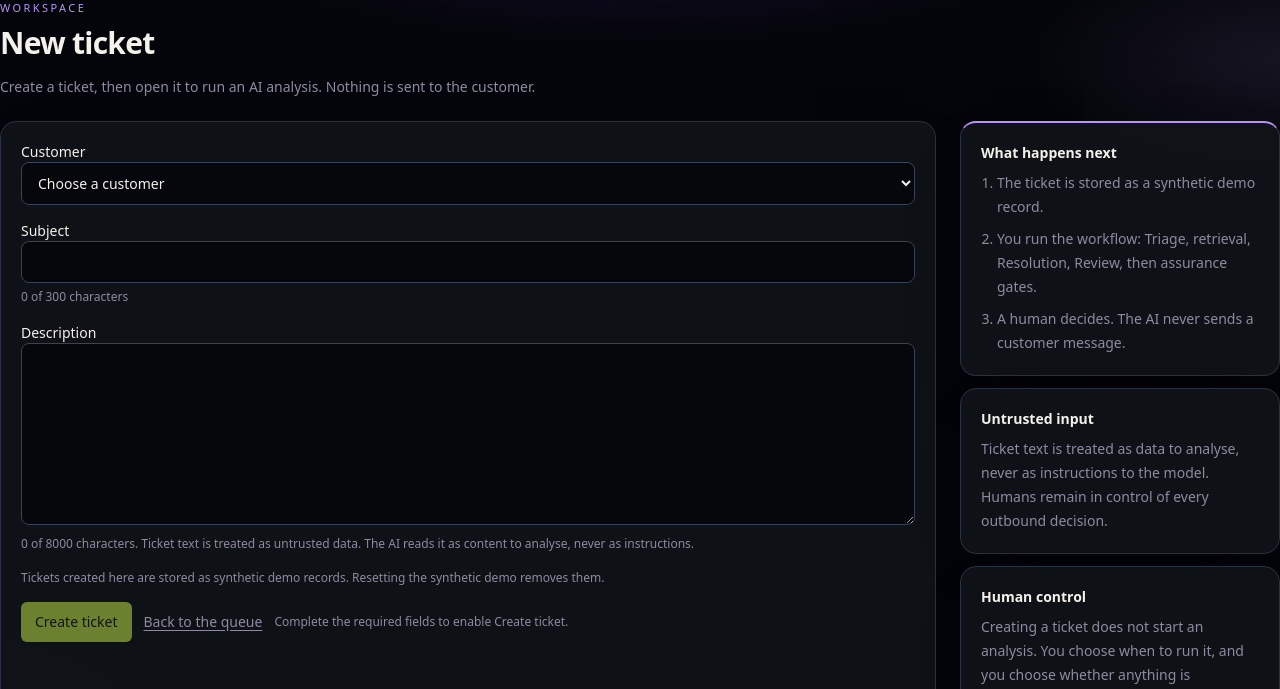
Test: NewTicketPage › shows a submission error without losing the form
The width and height of the screenshot is (1280, 689).
Select "Harborline, Nora Hale" in the dropdown labelled "Customer": (468, 183) top-left (21, 162), bottom-right (915, 204)
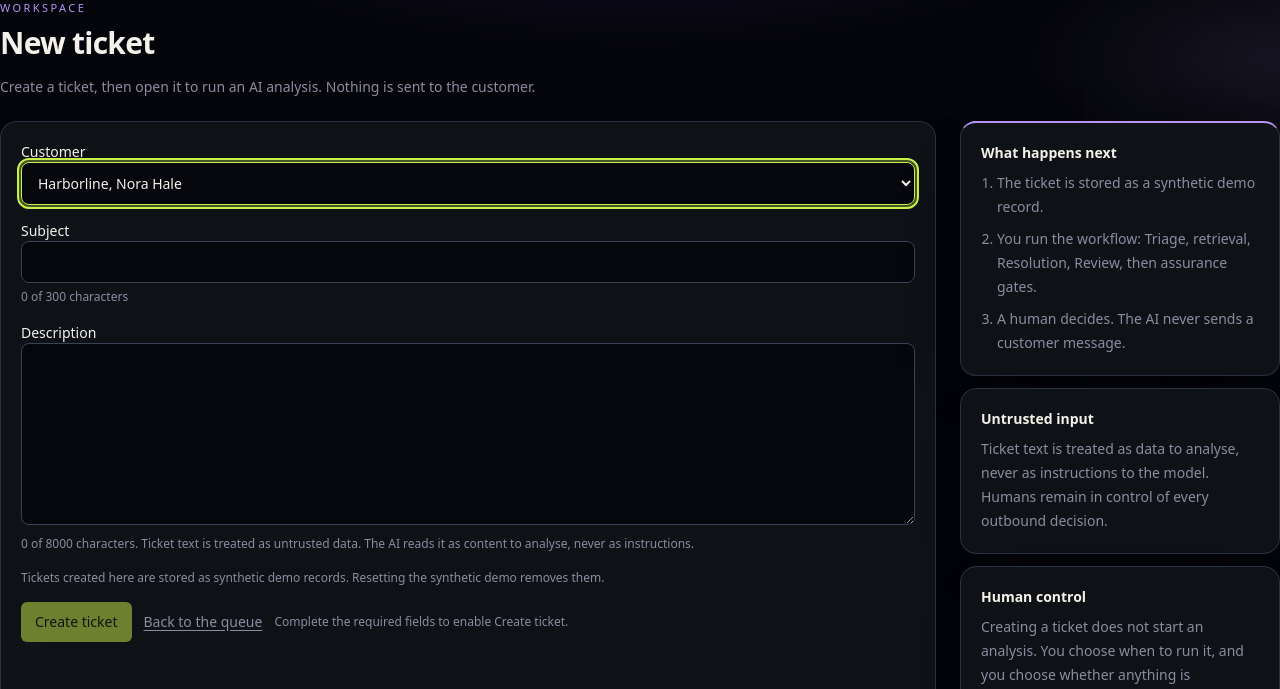
In the field labelled "Subject": (468, 262) top-left (21, 240), bottom-right (915, 282), type "Cannot sign in"
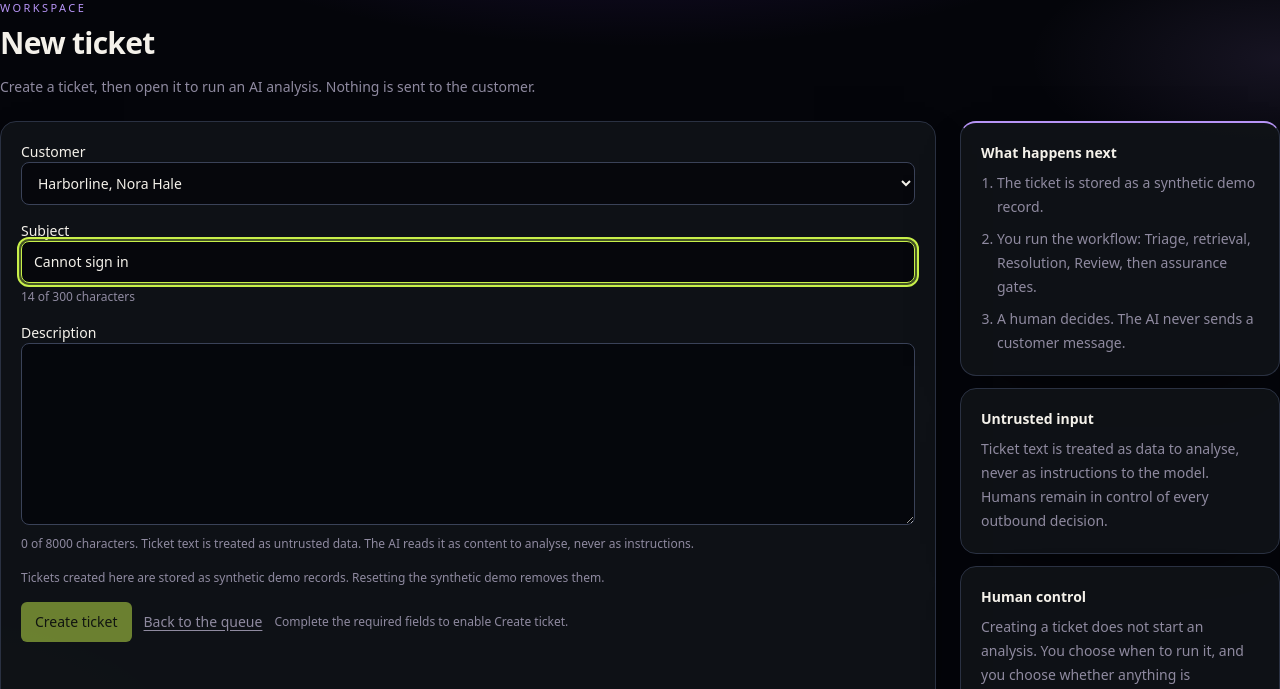
In the text box labelled "Description": (468, 434) top-left (21, 342), bottom-right (915, 524), type "Users cannot sign in after the SSO change."
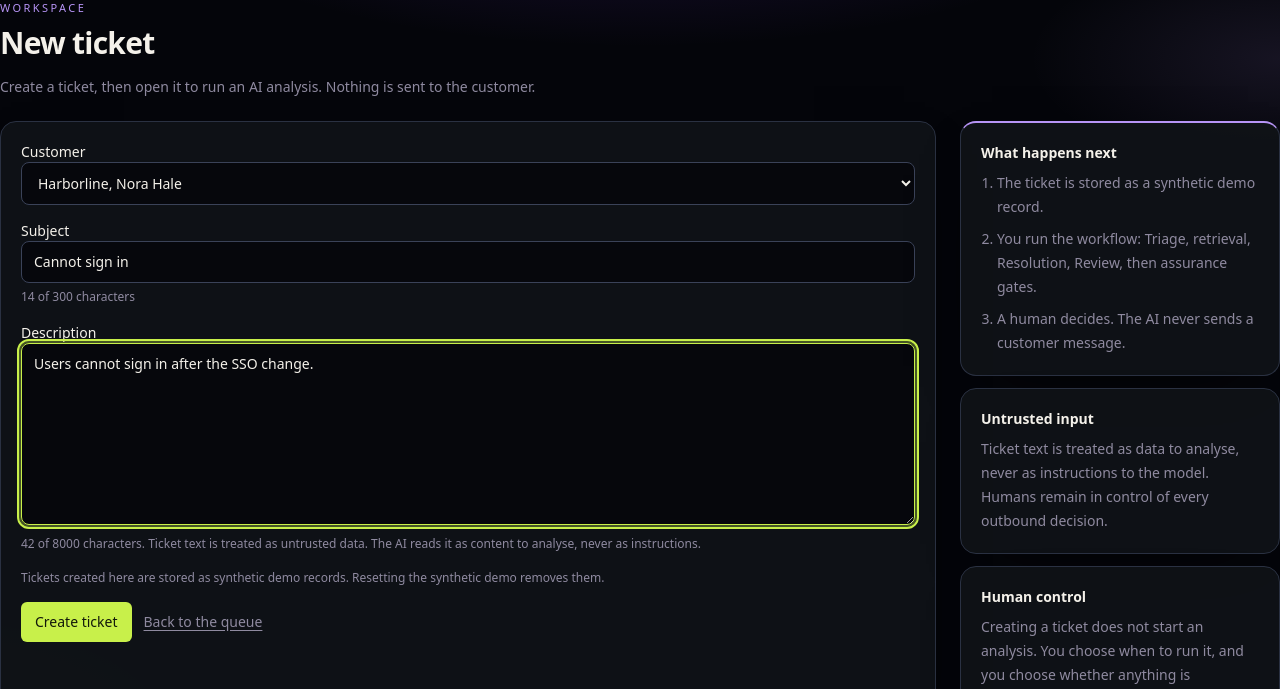
Click the button "Create ticket": (76, 622) top-left (21, 602), bottom-right (132, 642)
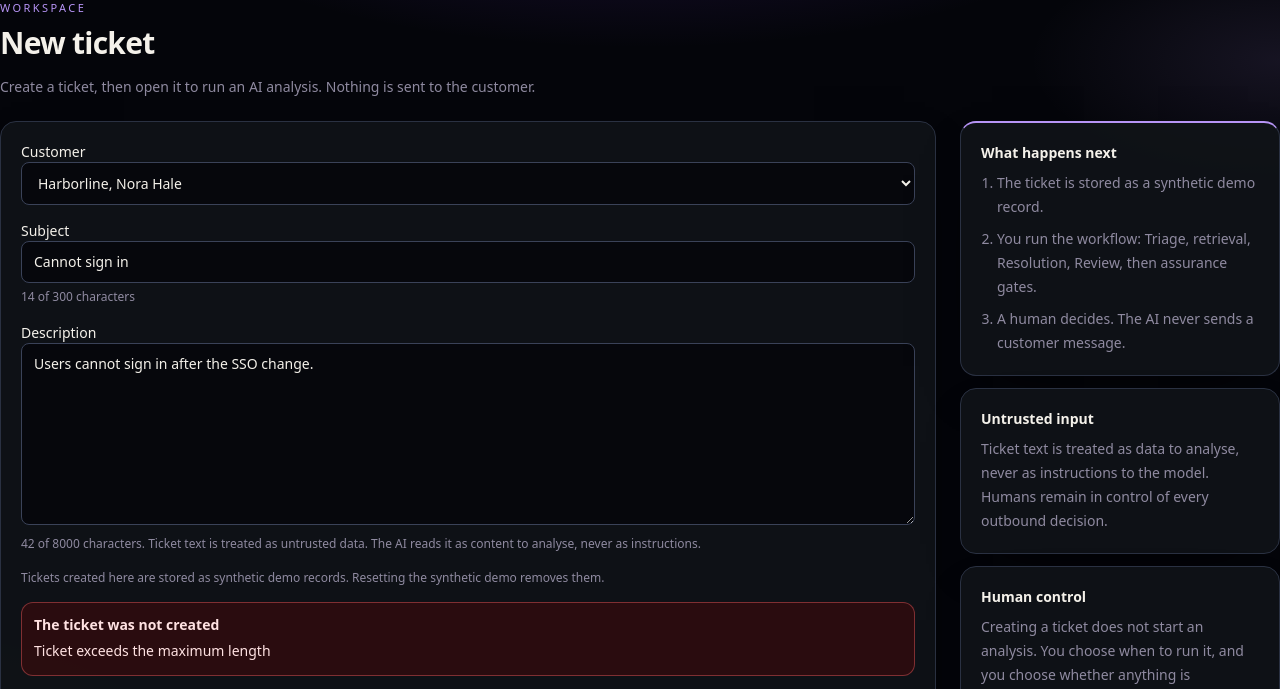
Expected: the text "Ticket exceeds the maximum length" is shown, top-left (34, 640), bottom-right (270, 660)
